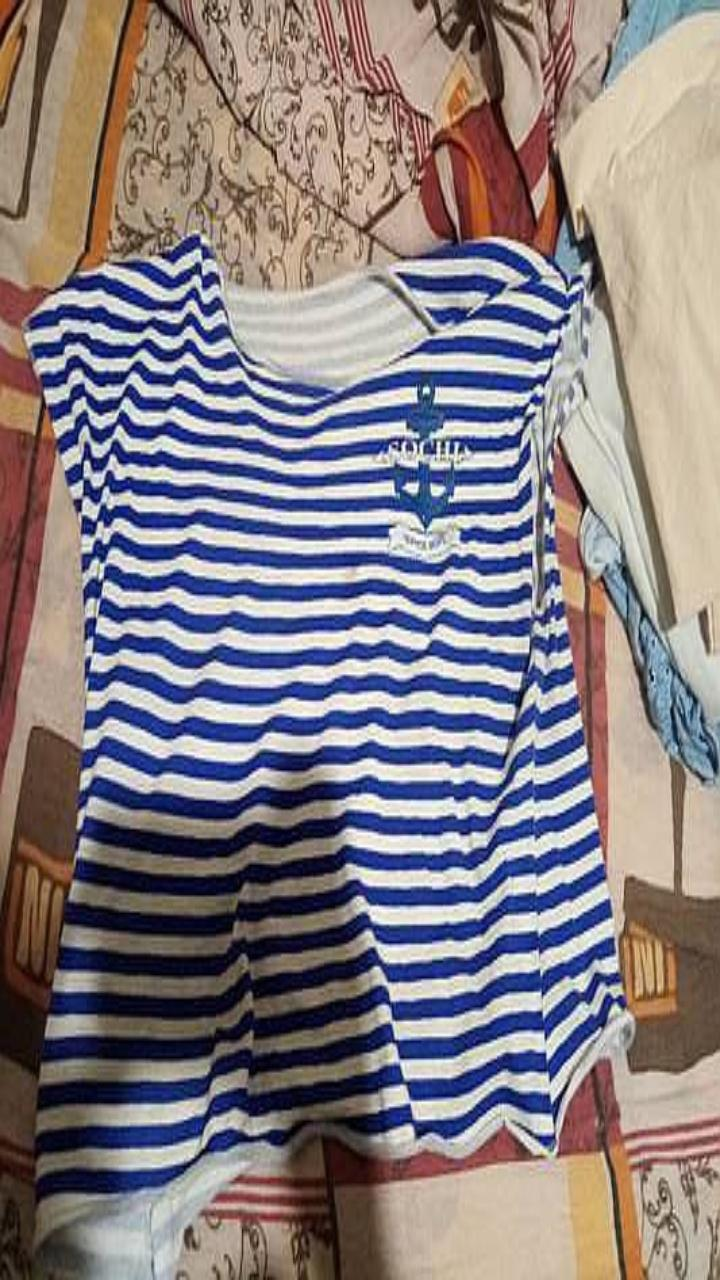T-Shirt: (26, 236, 630, 1279)
